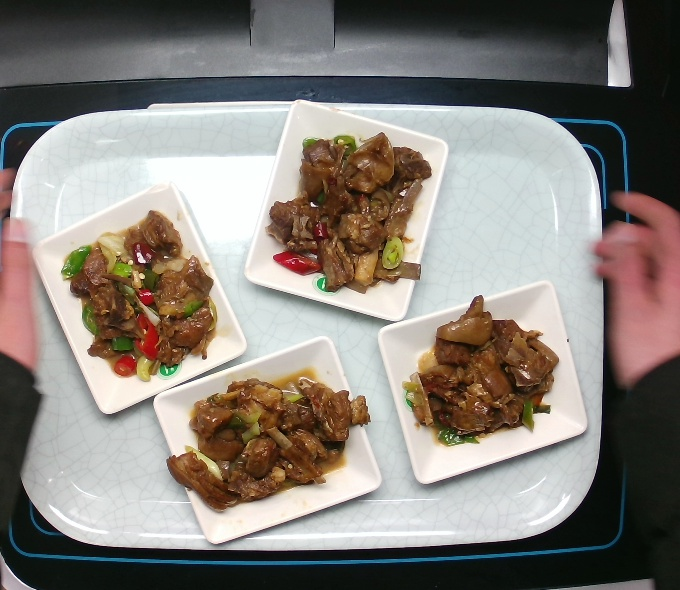wcq-YangRou: (261, 129, 434, 297), (164, 375, 371, 512), (60, 208, 218, 381), (403, 292, 561, 447)
